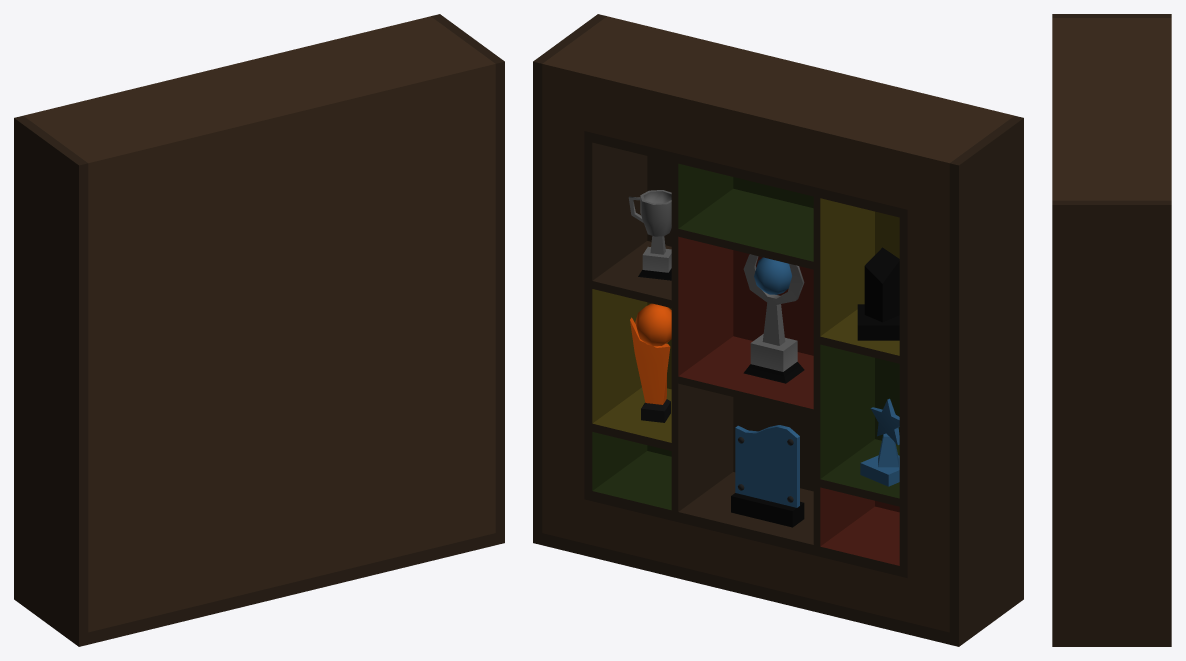
File: TrophyShelf_02.fbx
3 renders of one model, left to right at view 1: azimuth 30°, elevation 25°; view 2: azimuth 150°, elevation 25°; view 3: azimuth 270°, elevation 25°, orthographic. The views are drawn at different scales.
Visible parts, largest first — view 1: TrophyShelf_02; view 2: TrophyShelf_02; view 3: TrophyShelf_02.
Boxes of the visible parts, box(x1,y1,x2,y2) form: TrophyShelf_02: box(14, 14, 504, 646); TrophyShelf_02: box(533, 14, 1023, 646); TrophyShelf_02: box(1052, 14, 1171, 646).
Bounding box in the file's own units: 2.06 × 2.23 × 0.5455.
